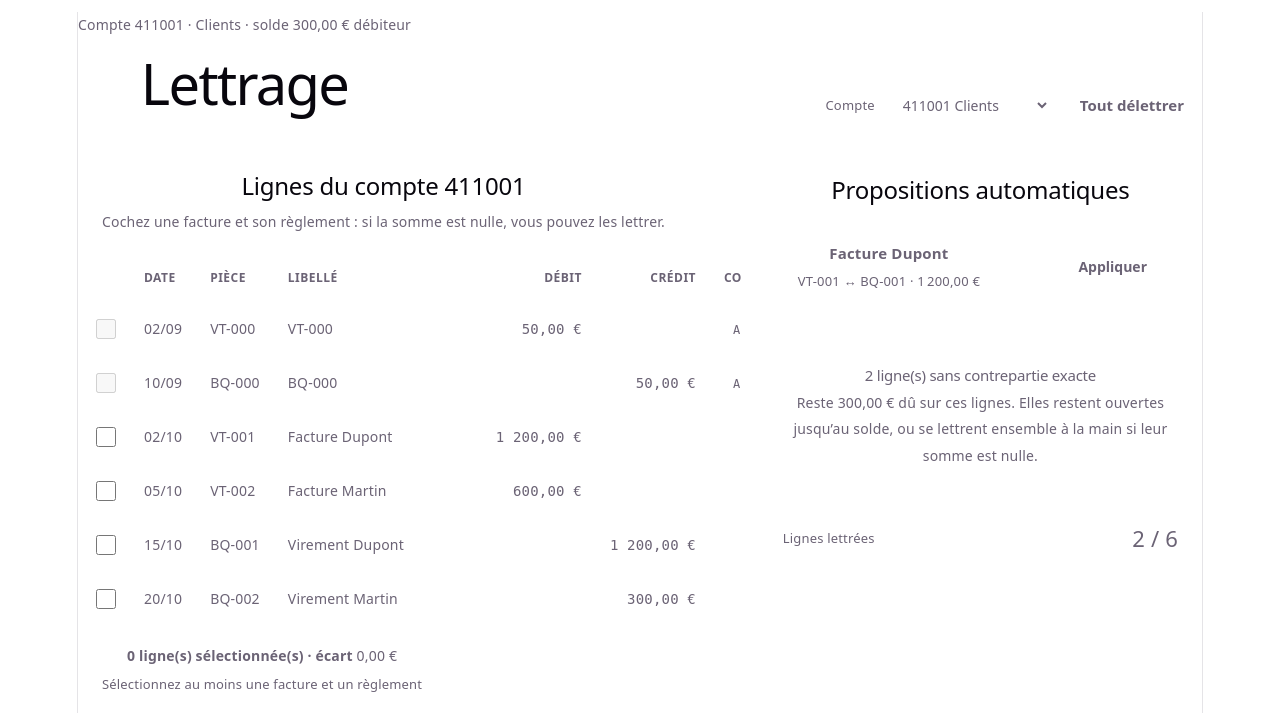
Test: LettrageView › affiche l’erreur renvoyée par le serveur
Step 1. Click the button with class "appliquer-button" → (1113,267), box [1062, 245, 1163, 289]
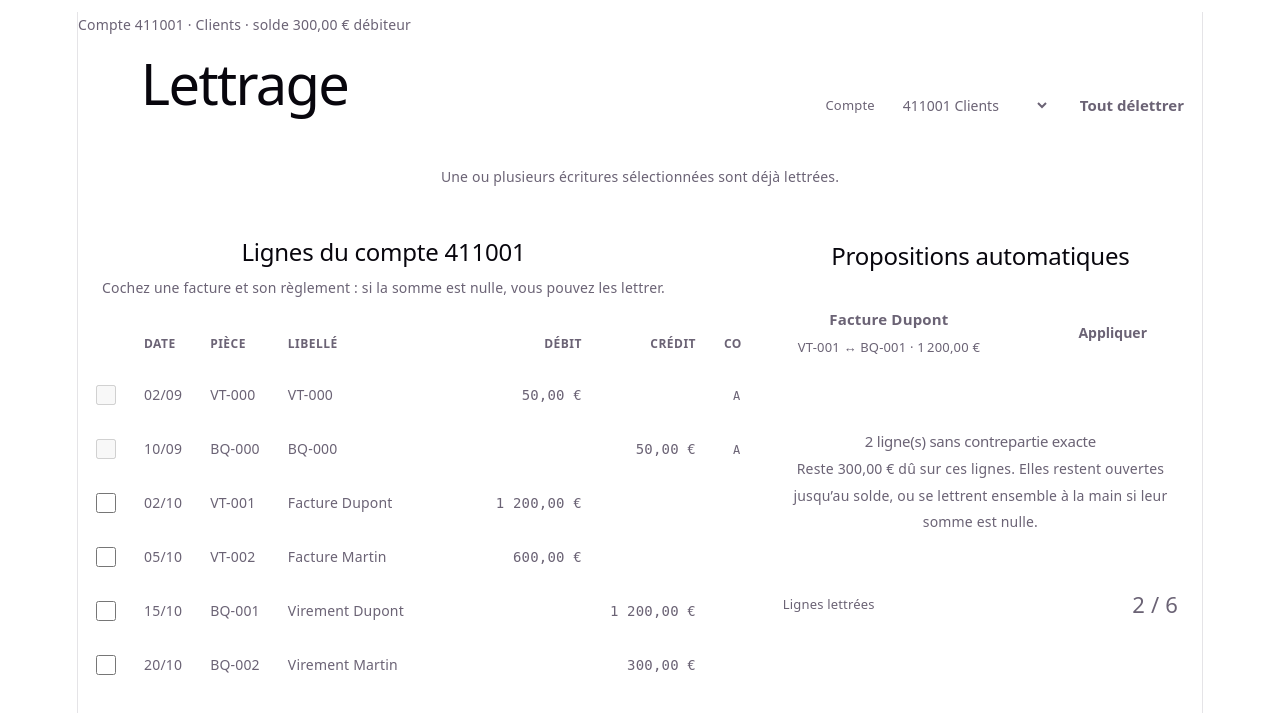
Expected: the message with class "lettrage-action-error" reads "Une ou plusieurs écritures sélectionnées sont déjà lettrées.", [441, 167, 839, 186]
